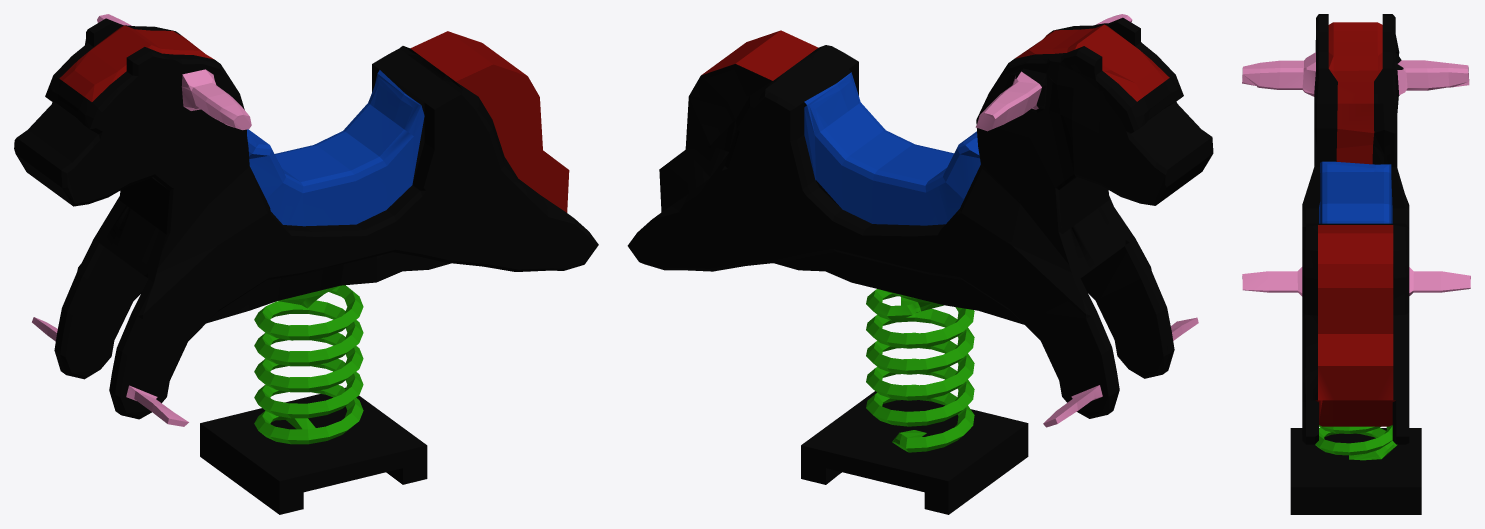
The model's file is SpringHorse_HT.fbx.
3 views of the same model, side by side, from view 1: azimuth 30°, elevation 25°; view 2: azimuth 150°, elevation 25°; view 3: azimuth 270°, elevation 25° (orthographic). The views are drawn at different scales.
Visible parts, largest first — view 1: SpringHorse_HT; view 2: SpringHorse_HT; view 3: SpringHorse_HT.
Boxes of the visible parts, bbox=[...] form: SpringHorse_HT: bbox=[14, 14, 598, 514]; SpringHorse_HT: bbox=[627, 14, 1213, 514]; SpringHorse_HT: bbox=[1242, 14, 1470, 514].
Bounding box in the file's own units: 250 × 216 × 114.
